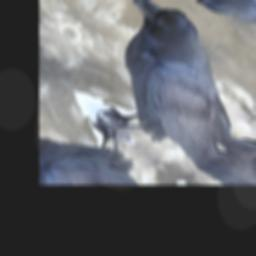Crow: (49, 0, 256, 184)
